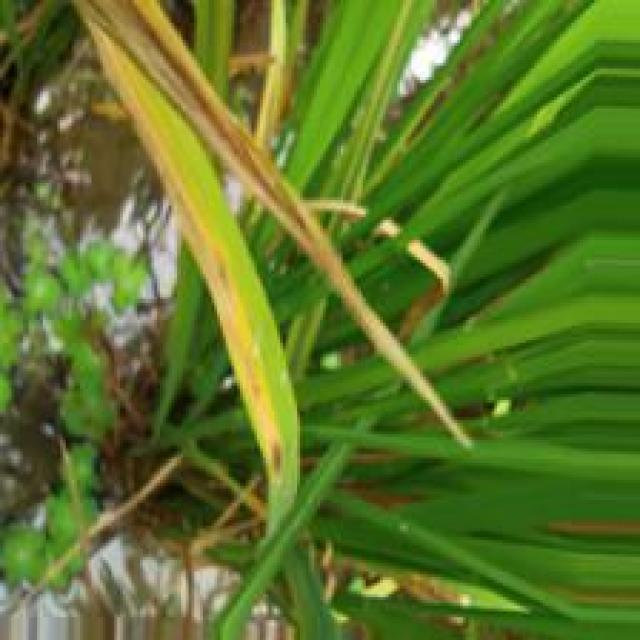Leaf_Scald: (80, 2, 313, 244)
